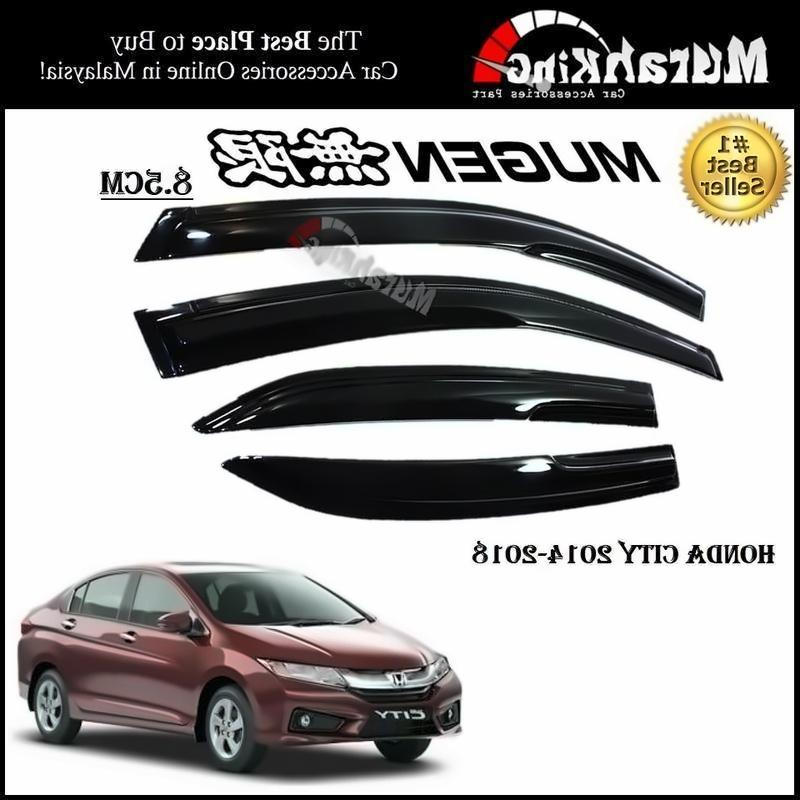Car hood: (213, 620, 450, 671)
Driver-s door - -F-R-: (120, 567, 204, 726)
Fender - -F-R-: (178, 605, 258, 771)
Fender - -R-R-: (15, 604, 71, 714)
Front bumper: (244, 667, 465, 751)
Headlight - -L-: (412, 651, 460, 687)
Headlight - -R-: (251, 650, 358, 693)
Passenger-s door - -R-R-: (49, 566, 125, 717)
Rear bumper: (13, 671, 37, 719)
Rear light - -R-: (10, 607, 45, 643)
Side bumper - -R-: (56, 697, 208, 748)
Side mirror - -R-: (150, 598, 200, 650)
